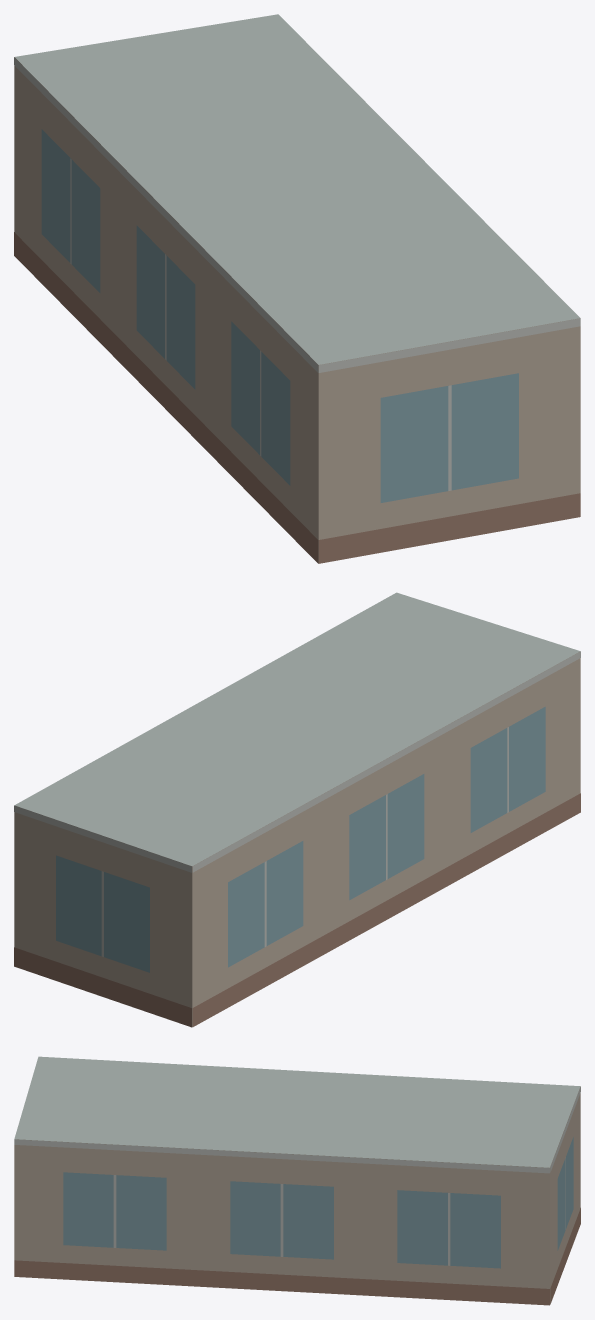
Rendered from survey-upis-32804202.glb.
The picture shows the model from 3 angles, top to bottom: view 1: azimuth 30°, elevation 25°; view 2: azimuth 150°, elevation 25°; view 3: azimuth 270°, elevation 25°; orthographic projection. The views are drawn at different scales.
Visible parts, largest first — view 1: survey-upis-32804202.tmp; view 2: survey-upis-32804202.tmp; view 3: survey-upis-32804202.tmp.
Boxes of the visible parts, x1,y1,x2,y2 form: survey-upis-32804202.tmp: (14,14,580,563); survey-upis-32804202.tmp: (14,592,580,1027); survey-upis-32804202.tmp: (14,1056,580,1305).
Bounding box in the file's own units: 5.3 × 3.05 × 11.4.
